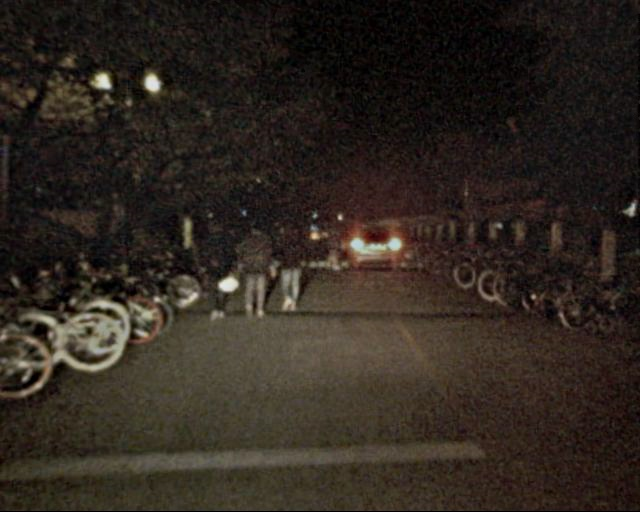person: (201, 213, 237, 321), (276, 214, 307, 316), (241, 223, 271, 321), (323, 224, 343, 272)
